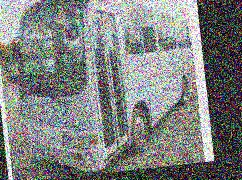bus: (7, 0, 203, 175)
